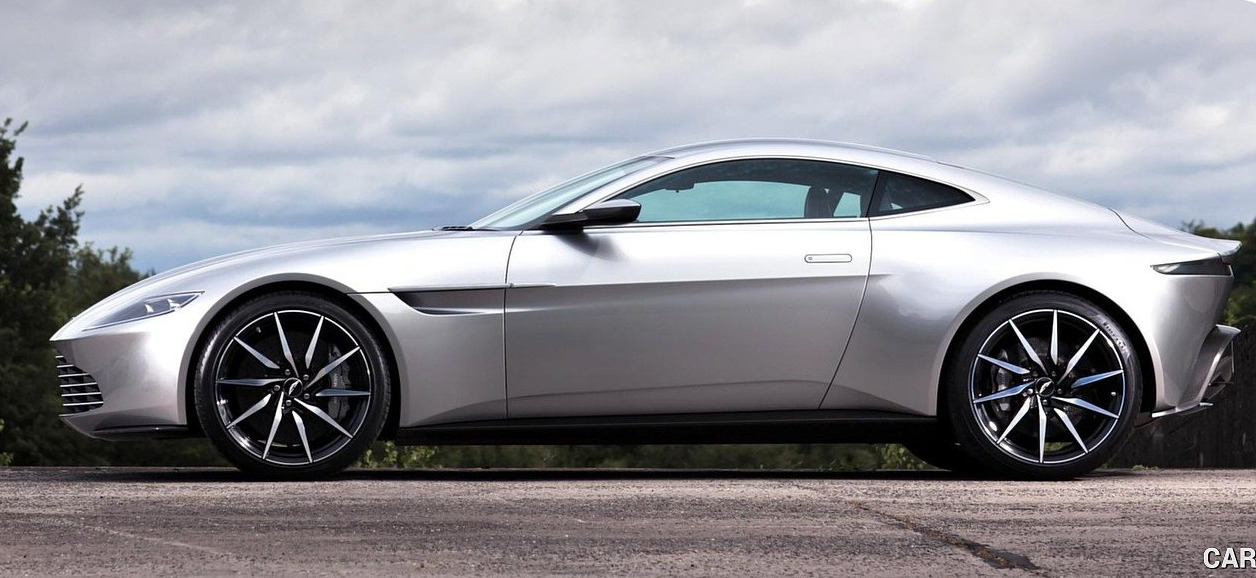mobil: (47, 140, 1243, 480)
